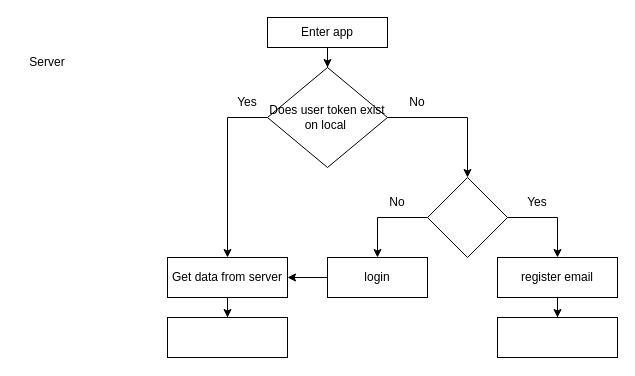
Some shapes in this 635 by 376 pixel diagram are drawn without their labels. Each missing label, with the centre of its shape:
"new user?" goes at (x=467, y=217).
"render list" goes at (x=227, y=337).
"Send request to server to create new token" goes at (x=557, y=337).
